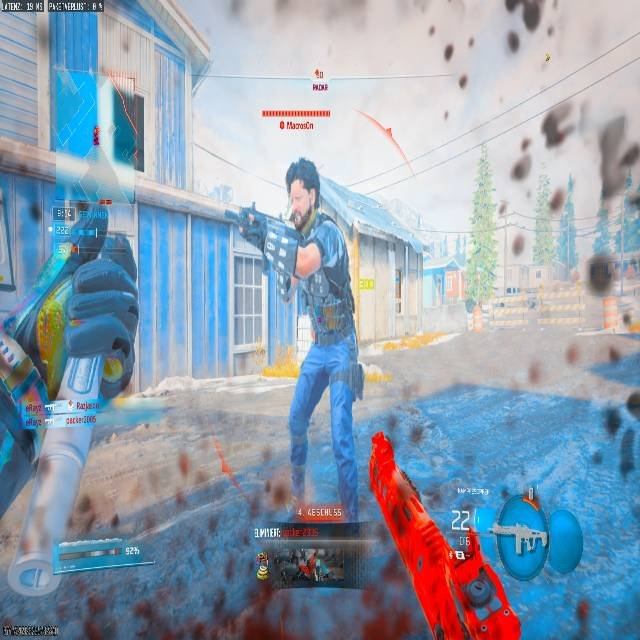head: (67, 259, 140, 334), (284, 158, 320, 228)
player: (0, 255, 138, 600), (233, 158, 362, 491)
